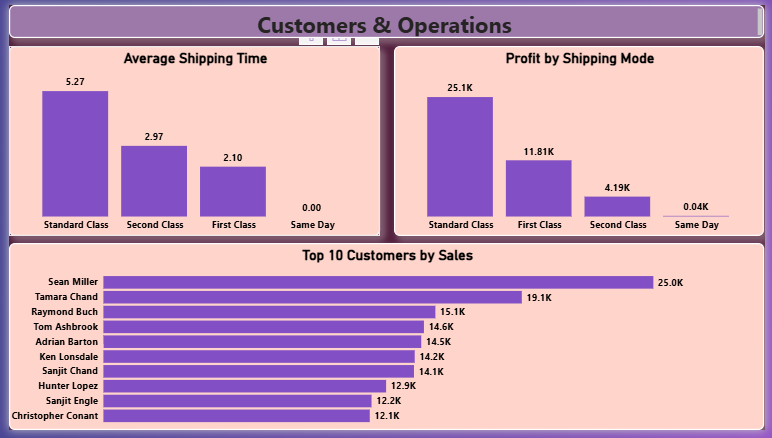

Layout of this report page (visuals, bound fields, positions):
{"tool":"powerbi","page":{"name":"Customers & Operations","canvas":[1280,720],"ordinal":2},"visuals":[{"type":"clusteredBarChart","title":"Top 10 Customers by Sales","fields":{"Y":["superstore_db superstore.Total Sales"],"Category":["superstore_db superstore.customer_name"]},"box":[0,403.4,1279.7,316.9],"z":0},{"type":"clusteredColumnChart","title":"Profit by Shipping Mode","fields":{"Category":["superstore_db superstore.ship_mode"],"Y":["superstore_db superstore.Total Profit"]},"box":[652.5,69.5,627.1,322],"z":1000},{"type":"clusteredColumnChart","title":"Average Shipping Time","fields":{"Category":["superstore_db superstore.ship_mode"],"Y":["Avg(superstore_db superstore.shipping_days)"]},"box":[0,69.5,628.8,322],"z":2000},{"type":"textbox","box":[0,0,1279.7,55.9],"z":3000}]}

Visuals, with their boxes in screenshot pixels (x1, y1, x2, y2), scaled from the page's 1280x720 canvas onto the 772x438 screenshot:
"Top 10 Customers by Sales" clusteredBarChart: select_region(0, 245, 771, 437)
"Profit by Shipping Mode" clusteredColumnChart: select_region(394, 42, 771, 238)
"Average Shipping Time" clusteredColumnChart: select_region(0, 42, 379, 238)
textbox: select_region(0, 0, 771, 34)
